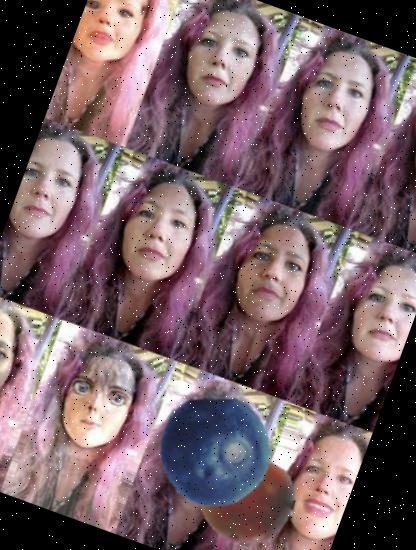Huckleberry: (143, 380, 288, 525)
Tomato: (184, 437, 307, 550)
